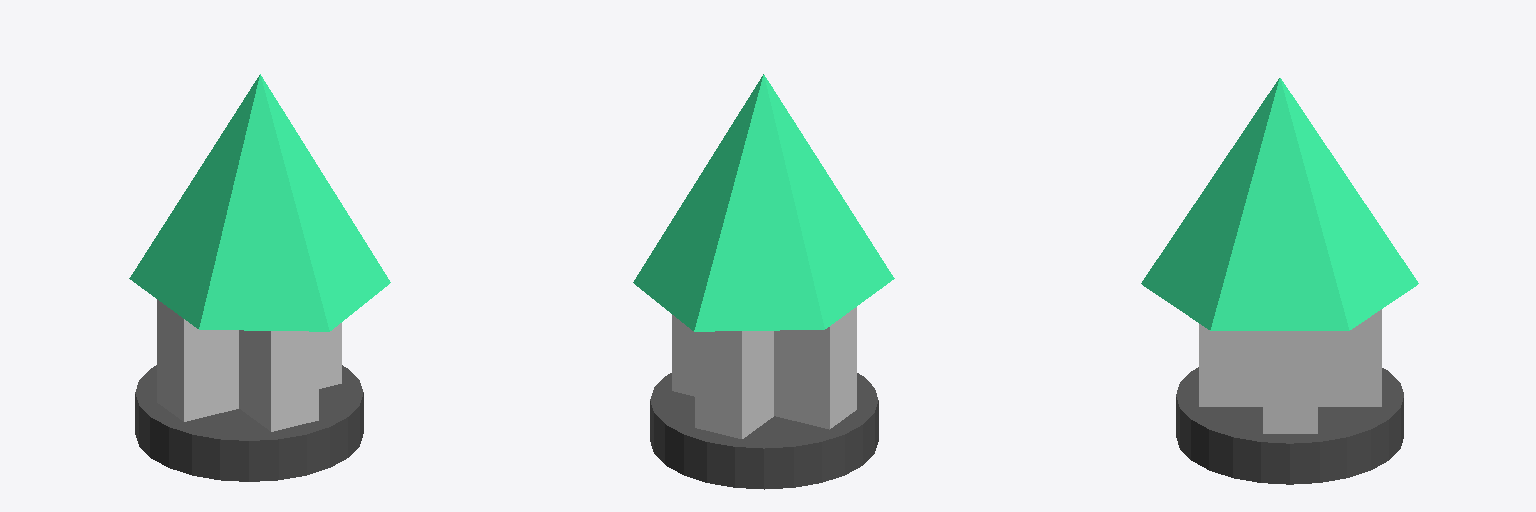
Rendered from gems_aquamarine_6.obj.
3 renders of one model, left to right at view 1: azimuth 30°, elevation 25°; view 2: azimuth 150°, elevation 25°; view 3: azimuth 270°, elevation 25°, orthographic.
Visible parts, largest first — view 1: mergedBlocks; view 2: mergedBlocks; view 3: mergedBlocks.
Part boxes in pixels (left/top/right/bottom): mergedBlocks: left=129, top=74, right=390, bottom=481; mergedBlocks: left=633, top=74, right=894, bottom=489; mergedBlocks: left=1141, top=78, right=1418, bottom=484.
Bounding box in the file's own units: 1.01 × 1.75 × 1.22.